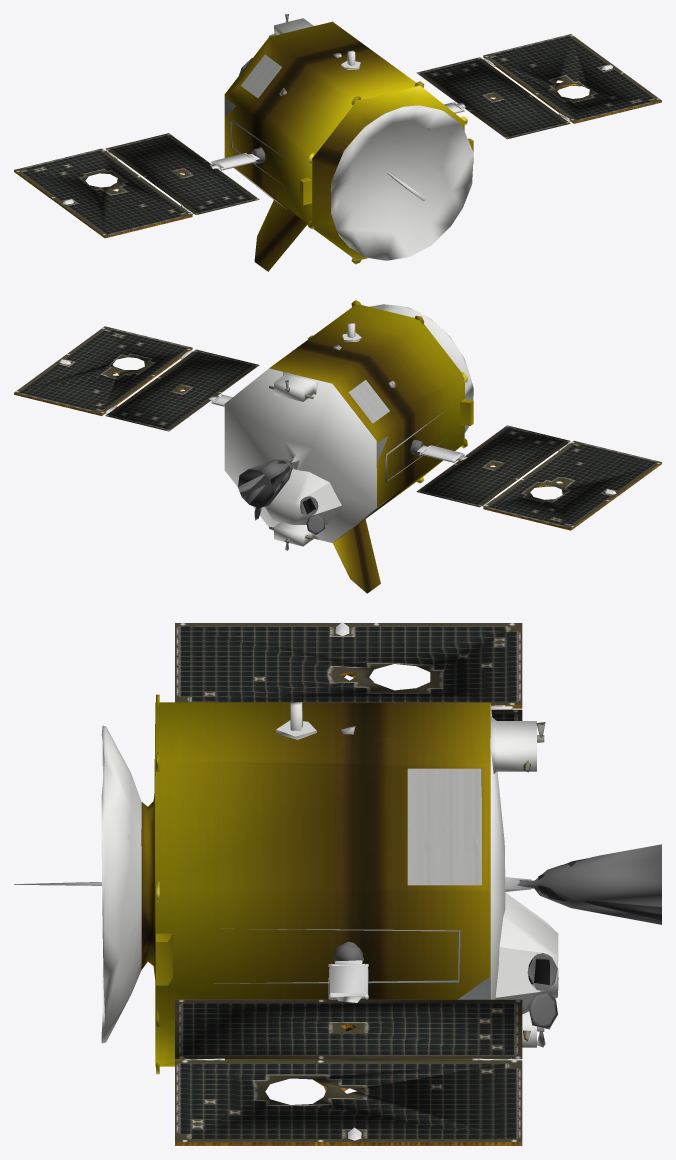
File: clementine_lod2.glb
The picture shows the model from 3 angles, top to bottom: view 1: azimuth 30°, elevation 25°; view 2: azimuth 150°, elevation 25°; view 3: azimuth 270°, elevation 25°; orthographic projection. The views are drawn at different scales.
Visible parts, largest first — view 1: clementine_lod2; view 2: clementine_lod2; view 3: clementine_lod2.
Part boxes in pixels (x1=…): clementine_lod2: x1=14, y1=14, x2=661, y2=271; clementine_lod2: x1=14, y1=300, x2=661, y2=593; clementine_lod2: x1=14, y1=622, x2=661, y2=1145.
Bounding box in the file's own units: 3.79 × 1.47 × 2.
Materials: 7 (3 with a texture image).
